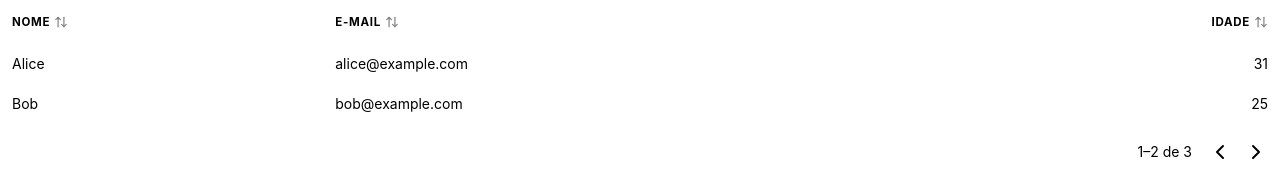
Test: DataTable (TanStack Table v8) › paginates on the client with pageSize
Expected: the text "Alice" is shown, x1=0 y1=44 x2=323 y2=84
Expected: the text "Carla" is not shown
Step 1. Click the button named "Próxima página" → (1256, 152), box x1=1240 y1=136 x2=1272 y2=168
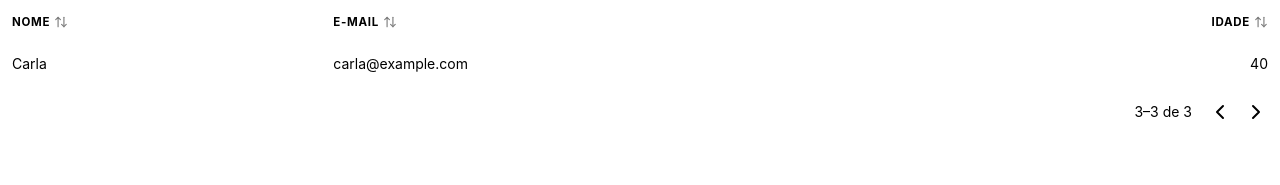
Now the text "Carla" is shown, box x1=0 y1=44 x2=321 y2=84
Now the text "Alice" is gone
Now the text "3–3 de 3" is shown, box x1=1134 y1=102 x2=1192 y2=122
Step 2. Click the button named "Página anterior" → (1220, 112), box x1=1204 y1=96 x2=1236 y2=128
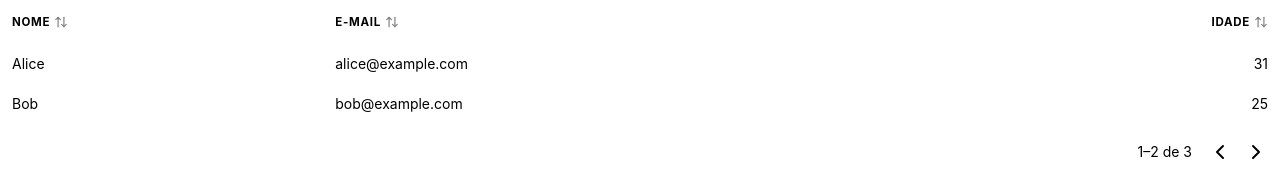
Now the text "Alice" is shown, box x1=0 y1=44 x2=323 y2=84
